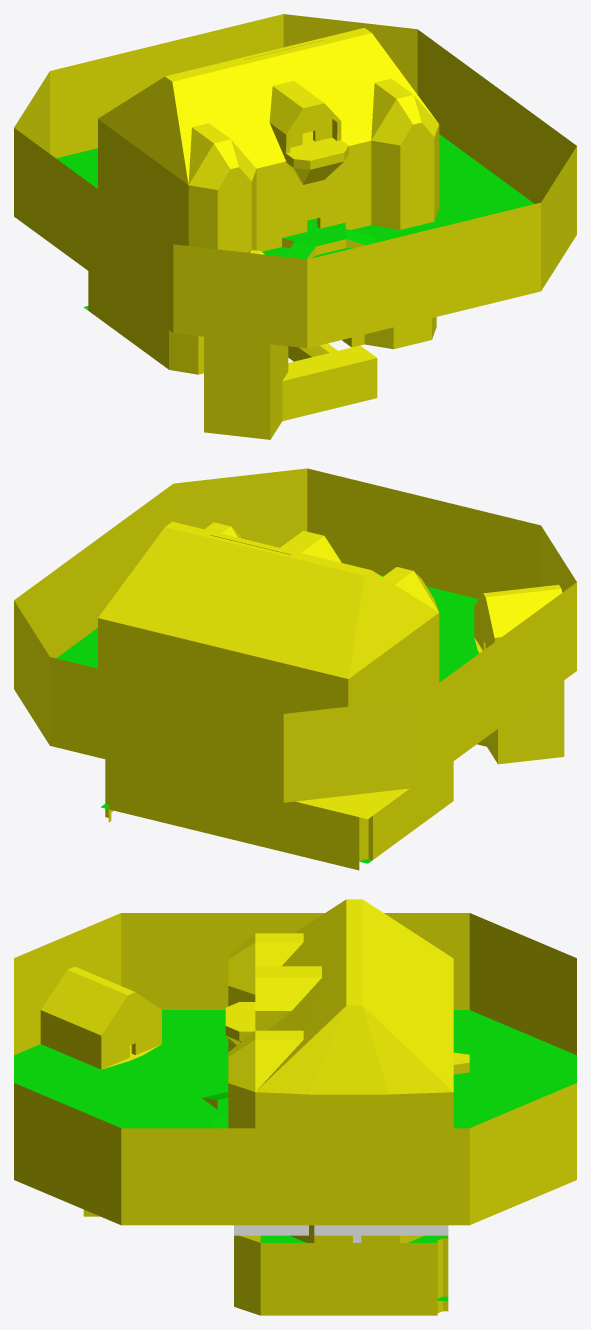
Rendered from bbh_segment7.0x207A0.collision.obj.
3 renders of one model, top to bottom at view 1: azimuth 30°, elevation 25°; view 2: azimuth 150°, elevation 25°; view 3: azimuth 270°, elevation 25°, orthographic. The views are drawn at different scales.
Parts seen in each view (by area): view 1: bbh_segment7_207A0_normal, bbh_segment7_207A0_grass; view 2: bbh_segment7_207A0_normal, bbh_segment7_207A0_grass; view 3: bbh_segment7_207A0_normal, bbh_segment7_207A0_grass, bbh_segment7_207A0_void.
Part boxes in pixels (x1,y1,x2,y2): bbh_segment7_207A0_normal: [14, 14, 576, 439]; bbh_segment7_207A0_grass: [56, 134, 534, 310]; bbh_segment7_207A0_normal: [14, 468, 576, 870]; bbh_segment7_207A0_grass: [56, 575, 479, 863]; bbh_segment7_207A0_normal: [14, 899, 576, 1315]; bbh_segment7_207A0_grass: [14, 1010, 576, 1300]; bbh_segment7_207A0_void: [234, 1225, 448, 1235].
Size of the model in its own units: 9.5 by 6.11 by 10.5.
